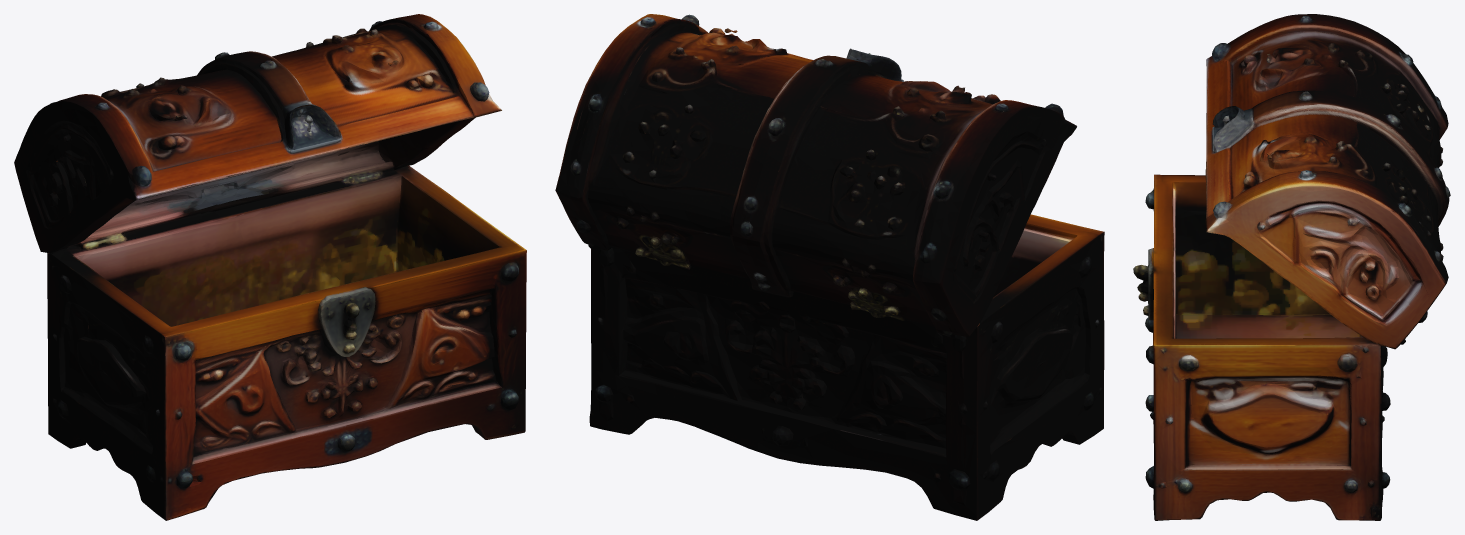
The model's file is wooden-treasure-chest-rustic.jpeg.glb.
3 views of the same model, side by side, from view 1: azimuth 30°, elevation 25°; view 2: azimuth 150°, elevation 25°; view 3: azimuth 270°, elevation 25° (orthographic). The views are drawn at different scales.
Parts seen in each view (by area): view 1: world; view 2: world; view 3: world.
Boxes of the visible parts, left/top/right/bottom form: world: left=14, top=14, right=526, bottom=520; world: left=555, top=14, right=1104, bottom=520; world: left=1133, top=14, right=1450, bottom=520.
Size of the model in its own units: 1 by 0.9253 by 0.7756.
Materials: 1 (1 with a texture image).
